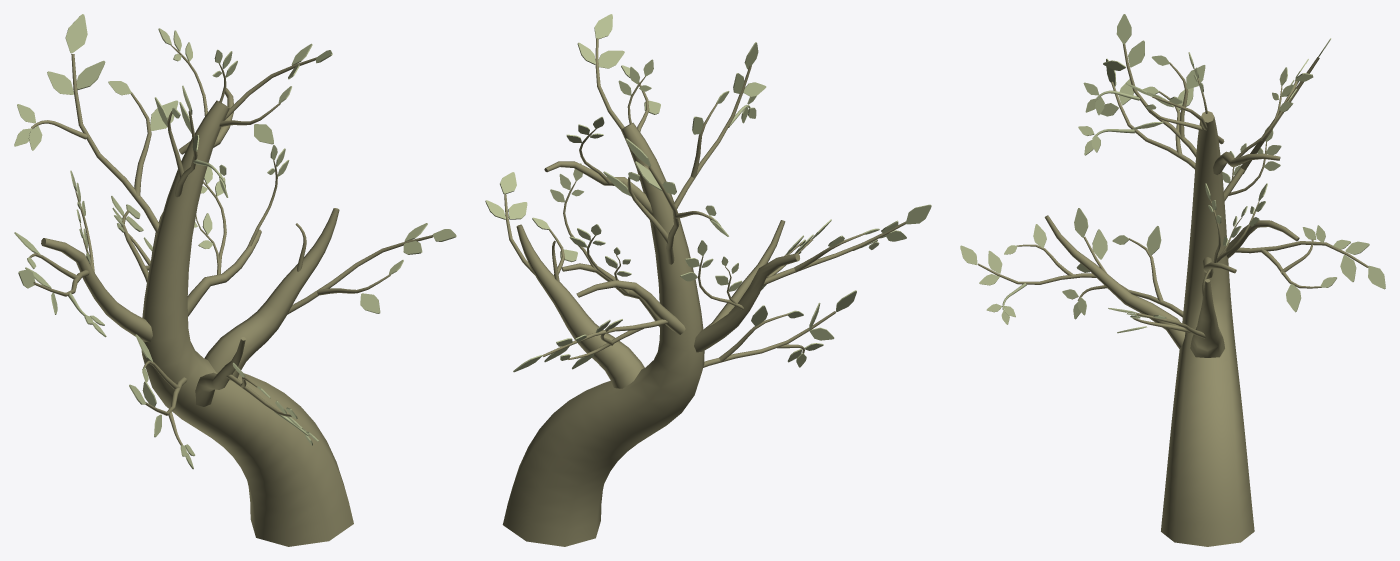
The model's file is Small_Tree.fbx.
3 views of the same model, side by side, from view 1: azimuth 30°, elevation 25°; view 2: azimuth 150°, elevation 25°; view 3: azimuth 270°, elevation 25° (orthographic). The views are drawn at different scales.
Parts seen in each view (by area): view 1: pasted__sweep26; view 2: pasted__sweep26; view 3: pasted__sweep26.
Boxes of the visible parts, x1,y1,x2,y2 form: pasted__sweep26: (14, 14, 456, 546); pasted__sweep26: (485, 14, 931, 546); pasted__sweep26: (960, 14, 1385, 546).
Size of the model in its own units: 4.1 by 4.57 by 3.91.
